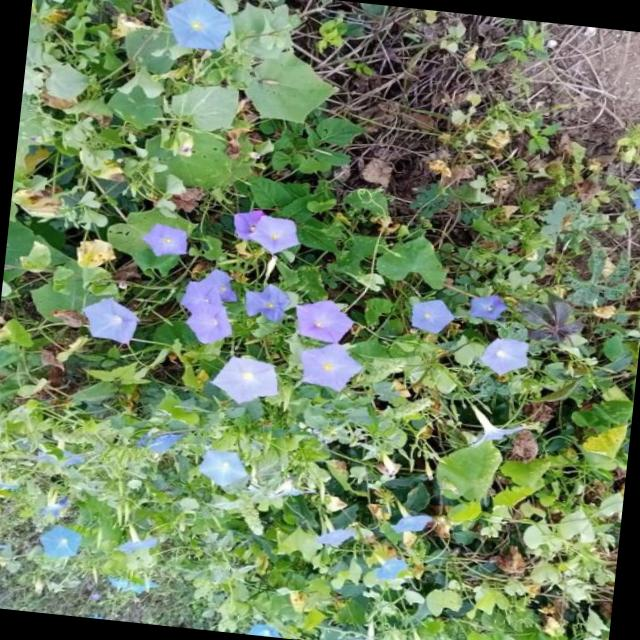ipomoea: (0, 0, 640, 640), (172, 262, 247, 350), (205, 348, 288, 409), (292, 336, 370, 396), (158, 0, 241, 56), (227, 204, 308, 259), (76, 290, 148, 349), (288, 292, 361, 348), (476, 330, 538, 380), (136, 216, 196, 262), (404, 292, 462, 338)
